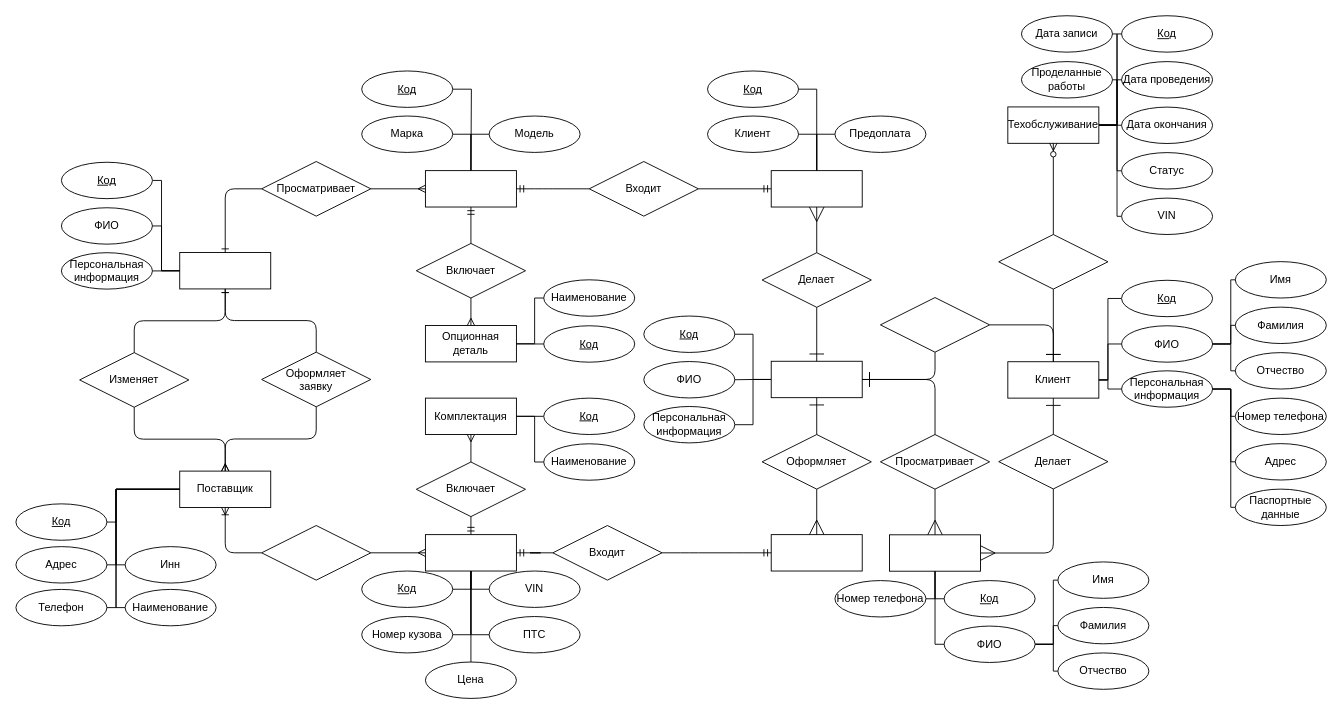
This 1342x715 diagram has some shape labels left out. The centre of each missing label's shape, as x and y in pixels:
"Автомобиль" belongs at pixel 470 552.
"Автомобиль под заказ" belongs at pixel 470 188.
"Администратор" belongs at pixel 225 270.
"Заказ" belongs at pixel 816 188.
"Записывается" belongs at pixel 1053 261.
"Заявка" belongs at pixel 935 552.
"Менеджер" belongs at pixel 816 379.
"Обращается" belongs at pixel 935 324.
"Предоставляет" belongs at pixel 316 552.
"Продажа" belongs at pixel 816 552.
